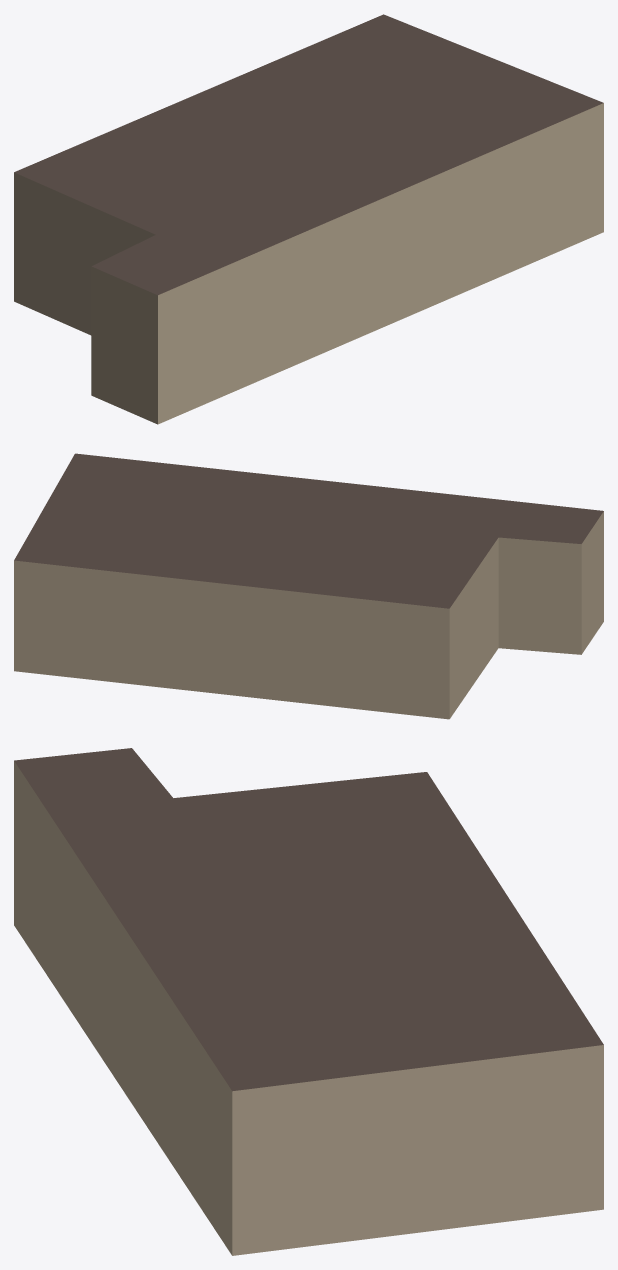
The picture shows the model from 3 angles, top to bottom: view 1: azimuth 30°, elevation 25°; view 2: azimuth 150°, elevation 25°; view 3: azimuth 270°, elevation 25°; orthographic projection. The views are drawn at different scales.
Visible parts, largest first — view 1: HP-w757497636; view 2: HP-w757497636; view 3: HP-w757497636.
Boxes of the visible parts, x1,y1,x2,y2 form: HP-w757497636: (14,14,603,424); HP-w757497636: (14,453,603,719); HP-w757497636: (14,748,603,1255).
Size of the model in its own units: 40.22 by 9 by 29.22.
